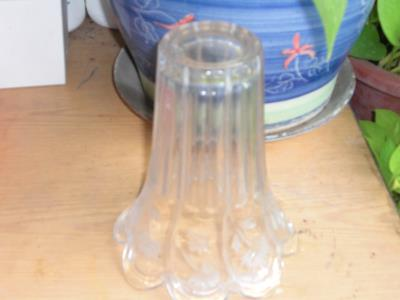bottle: (112, 17, 305, 293)
plate: (108, 41, 360, 144)
